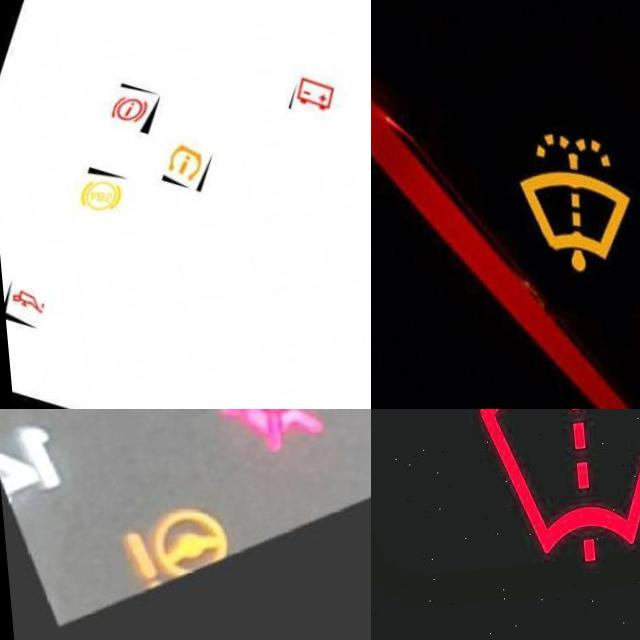Washer Fluid: (463, 409, 640, 572), (509, 135, 633, 286)
